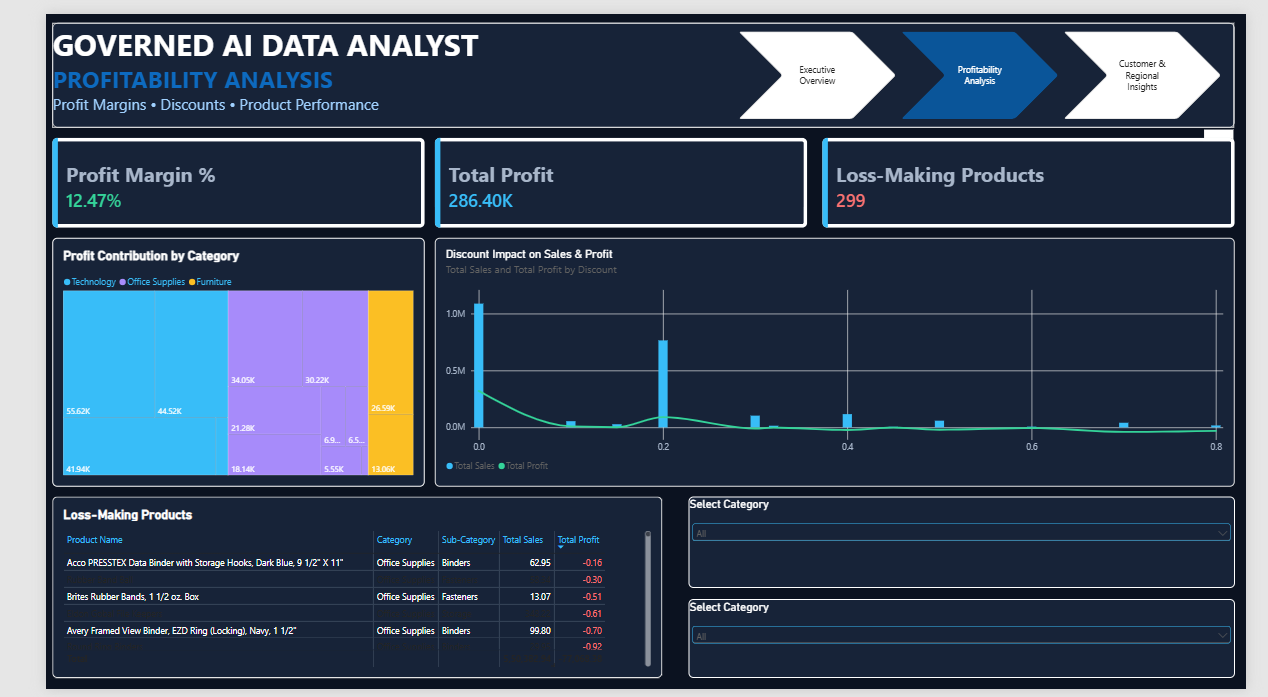

What the dashboard file says about the page in this screenshot:
{"tool":"powerbi","page":{"name":"Profitability Analysis","canvas":[1920,1080],"ordinal":1},"visuals":[{"type":"textbox","box":[10,14,1892,168],"z":0},{"type":"cardVisual","fields":{"Data":["superstore_for_powerbi.Profit Margin %"]},"box":[10,198,596,144],"z":1000},{"type":"cardVisual","fields":{"Data":["superstore_for_powerbi.Loss-Making Products"]},"box":[1242,198,660,144],"z":2000},{"type":"cardVisual","fields":{"Data":["superstore_for_powerbi.Total Profit"]},"box":[622,198,596,144],"z":3000},{"type":"treemap","title":"Profit Contribution by Category","fields":{"Details":["superstore_for_powerbi.Sub-Category"],"Group":["superstore_for_powerbi.Category"],"Values":["superstore_for_powerbi.Total Profit"]},"box":[10,358,596,398],"z":4000},{"type":"tableEx","title":"Loss-Making Products","fields":{"Values":["superstore_for_powerbi.Product Name","superstore_for_powerbi.Category","superstore_for_powerbi.Sub-Category","select","superstore_for_powerbi.Total Sales","superstore_for_powerbi.Total Profit"]},"box":[10,772,976,290],"z":5000},{"type":"lineStackedColumnComboChart","title":"Discount Impact on Sales & Profit","fields":{"Category":["superstore_for_powerbi.Discount"],"Y":["superstore_for_powerbi.Total Sales"],"Y2":["superstore_for_powerbi.Total Profit"]},"box":[622,358,1280,398],"z":6000},{"type":"slicer","title":"Select Category","fields":{"Values":["superstore_for_powerbi.Category"]},"box":[1028,772,874,146],"z":7000},{"type":"slicer","title":"Select Sub Category","fields":{"Values":["superstore_for_powerbi.Sub-Category"]},"box":[1028,936,874,126],"z":8000},{"type":"pageNavigator","box":[1108,28,774,140],"z":8001}]}

Visuals, with their boxes in screenshot pixels (x1, y1, x2, y2), scaled from the page's 1920x1080 canvas onto the 1268x697 screenshot:
textbox: detection(7, 9, 1256, 117)
cardVisual - superstore_for_powerbi.Profit Margin %: detection(7, 128, 400, 221)
cardVisual - superstore_for_powerbi.Loss-Making Products: detection(820, 128, 1256, 221)
cardVisual - superstore_for_powerbi.Total Profit: detection(411, 128, 804, 221)
"Profit Contribution by Category" treemap: detection(7, 231, 400, 488)
"Loss-Making Products" tableEx: detection(7, 498, 651, 685)
"Discount Impact on Sales & Profit" lineStackedColumnComboChart: detection(411, 231, 1256, 488)
"Select Category" slicer: detection(679, 498, 1256, 592)
"Select Sub Category" slicer: detection(679, 604, 1256, 685)
pageNavigator: detection(732, 18, 1243, 108)
